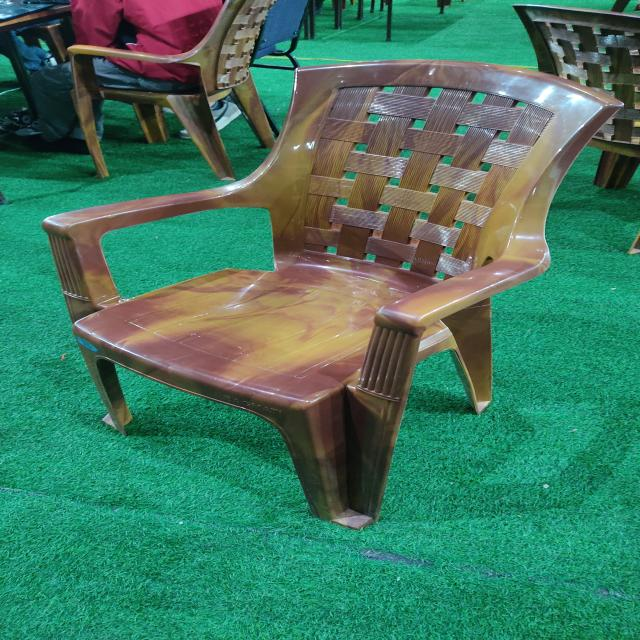Chair: (41, 58, 623, 530), (66, 0, 280, 182), (510, 3, 640, 190)
